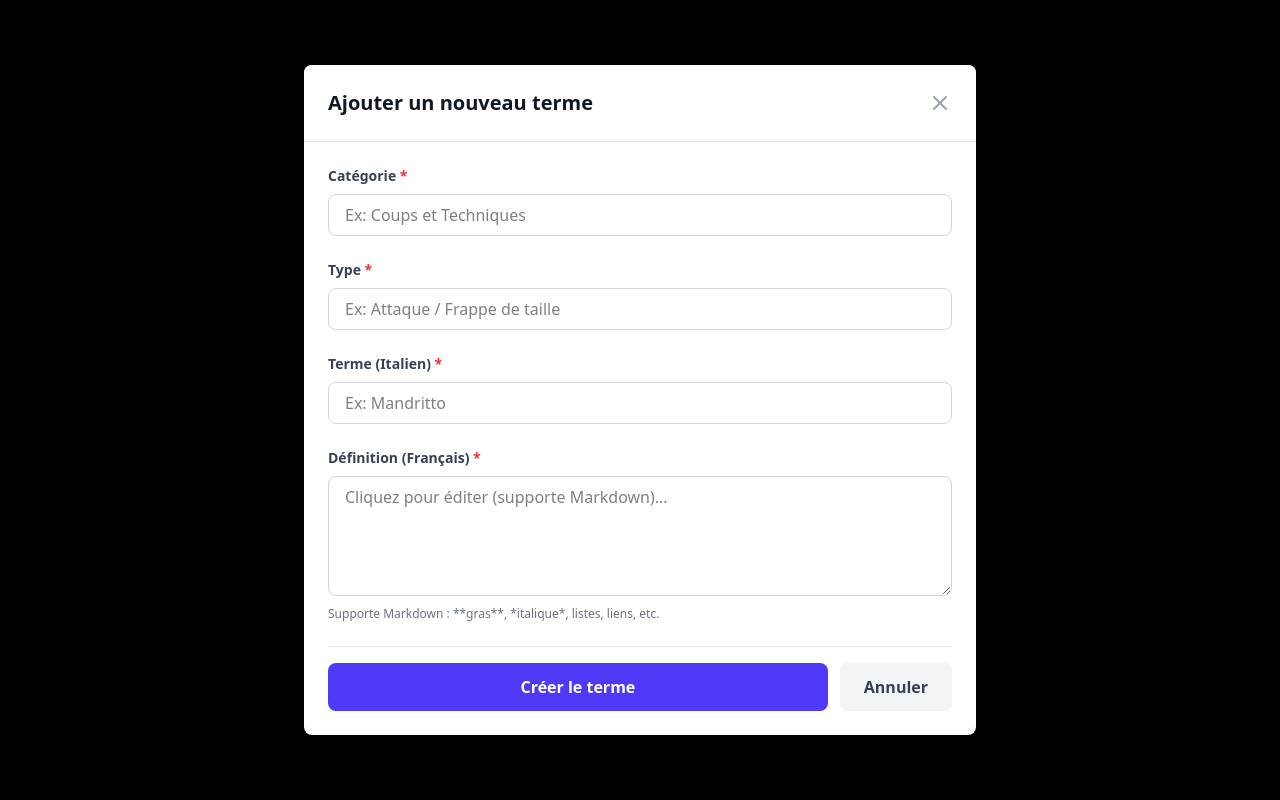
Test: Glossary Create Term Integration Tests › T179: Form validation in context › validates all fields before sending request
What coordinates should you click on to do the following:
click the button "Créer le terme"
I would click on:
 (578, 687)
Its box is [328,663,828,711].
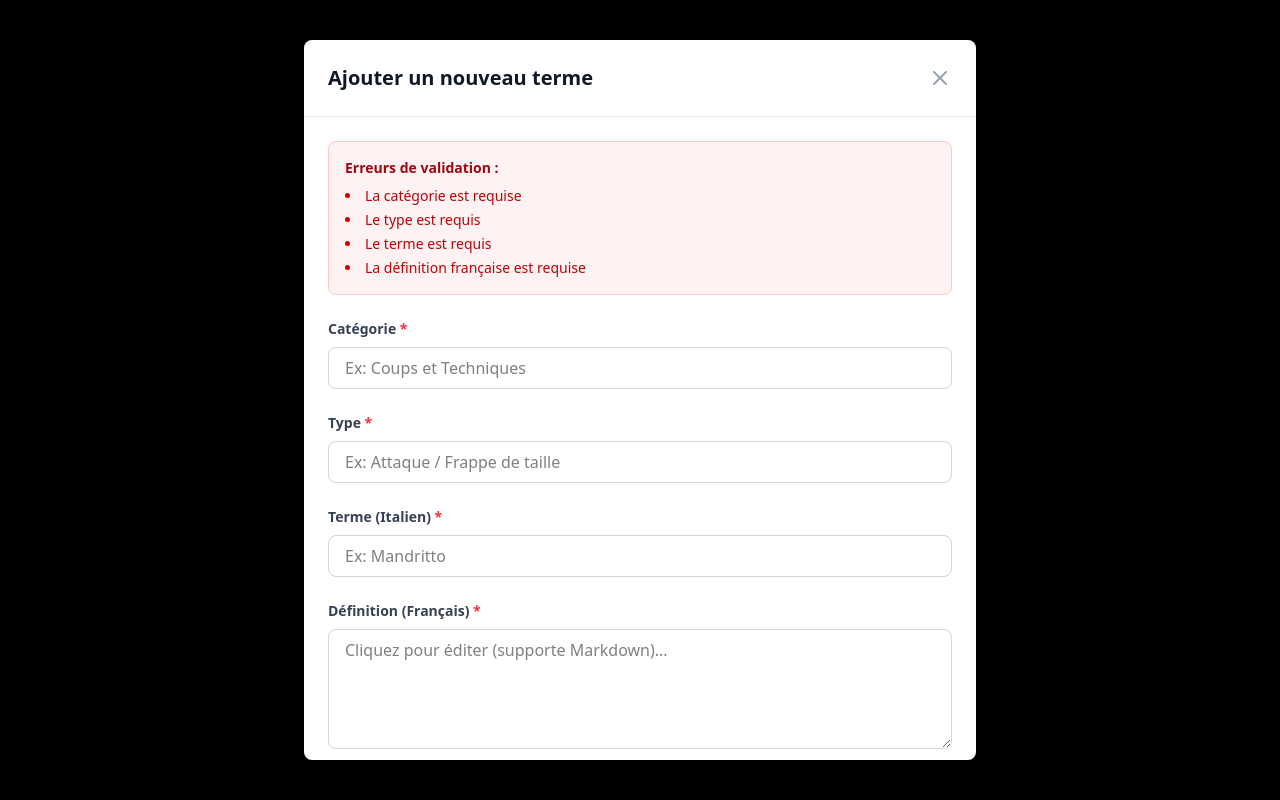
Check: the list item "La catégorie est requise" is shown, box [365,186,522,205]
Check: the list item "Le type est requis" is shown, box [365,210,480,229]
Check: the list item "Le terme est requis" is shown, box [365,234,492,253]
